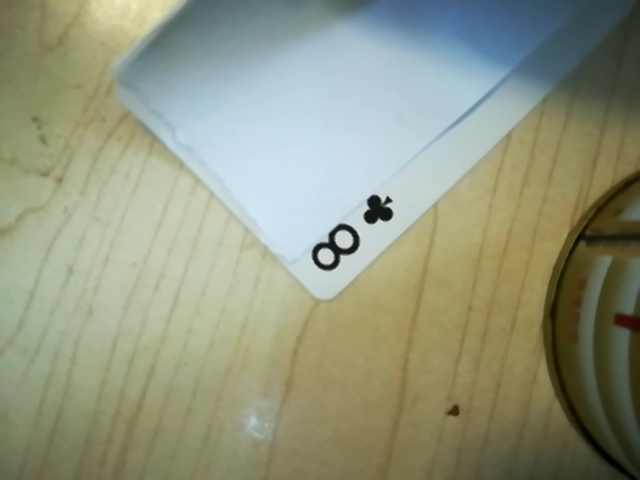mh 8: (299, 187, 403, 281)
